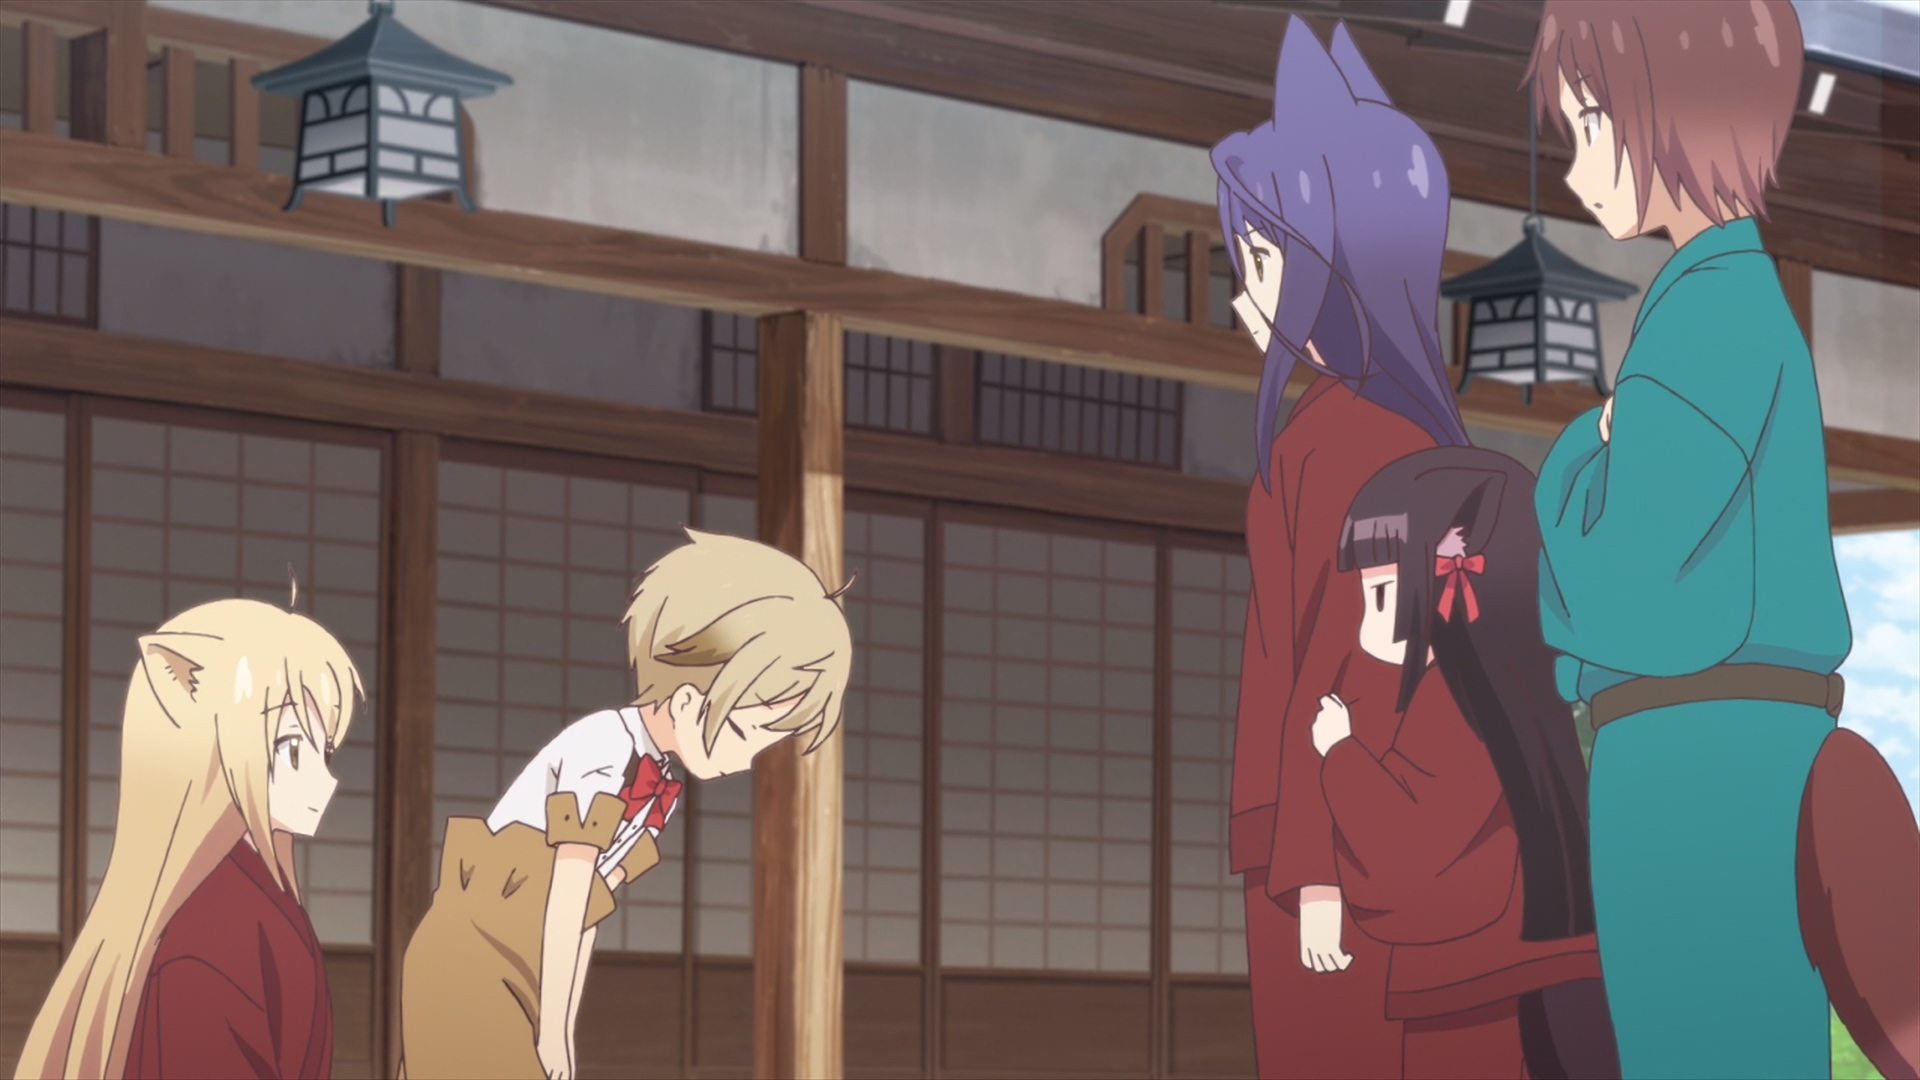其他: (400, 524, 857, 1080)
枣: (1518, 1, 1920, 1080)
柚: (13, 560, 371, 1080)
樱: (1311, 446, 1619, 1080)
皋: (1211, 13, 1473, 1080)
